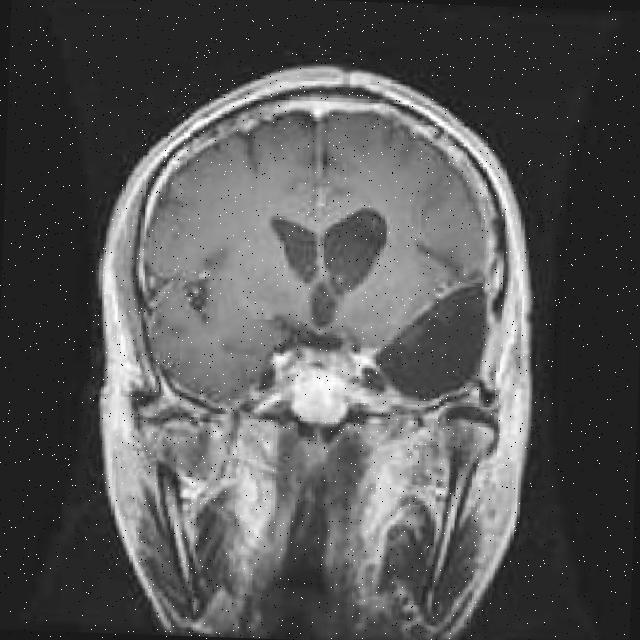EMCI: (314, 297, 524, 410)
